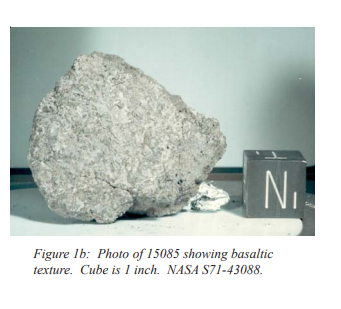Basalt: (41, 49, 235, 214)
